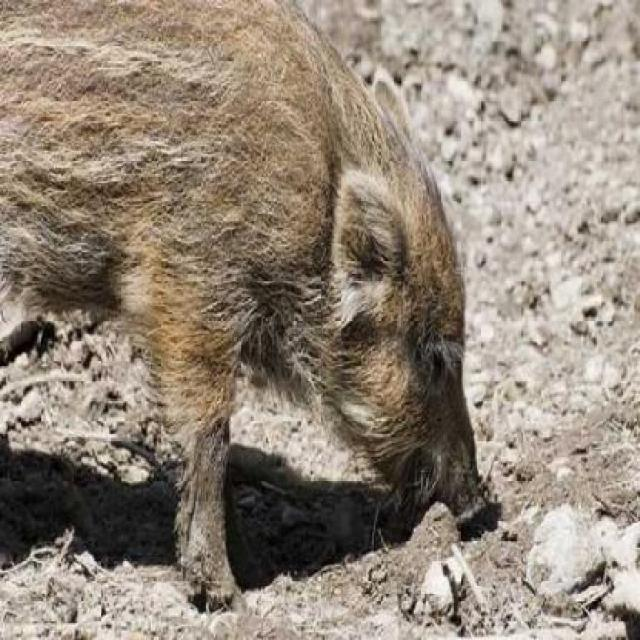Boar: (5, 0, 548, 626)
